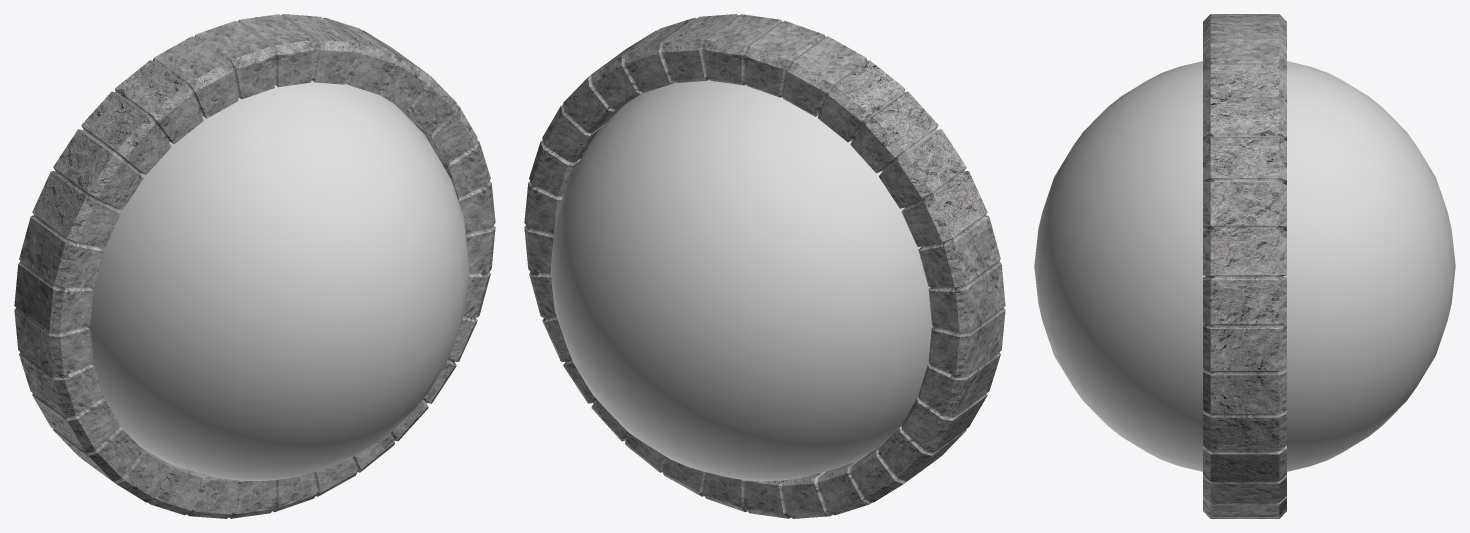
Rendered from glassball.glb.
3 views of the same model, side by side, from view 1: azimuth 30°, elevation 25°; view 2: azimuth 150°, elevation 25°; view 3: azimuth 270°, elevation 25° (orthographic).
Visible parts, largest first — view 1: GlassBall, Circle; view 2: GlassBall, Circle; view 3: GlassBall, Circle.
Part boxes in pixels (x1,y1,x2,y2): GlassBall: (87, 80, 469, 480); Circle: (14, 14, 495, 518); GlassBall: (550, 79, 932, 480); Circle: (524, 14, 1005, 518); GlassBall: (1034, 61, 1455, 471); Circle: (1203, 14, 1286, 518).
Size of the model in its own units: 0.4796 by 0.4796 by 0.4.
1 material, 1 textured.
